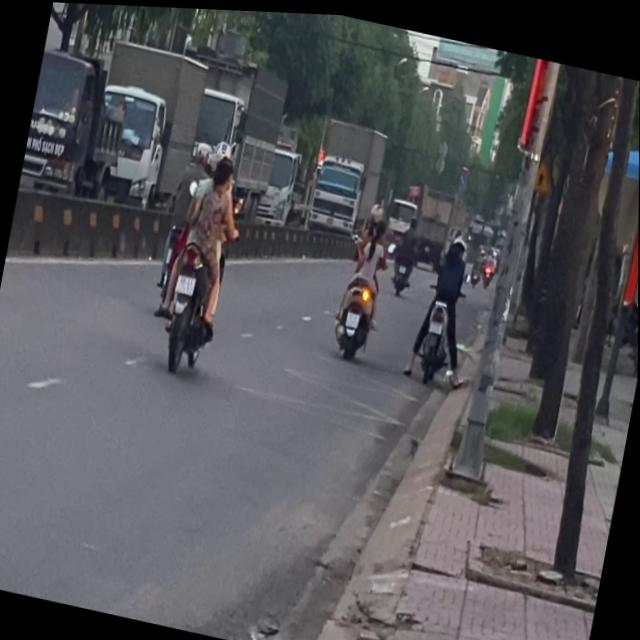helmet: (211, 134, 232, 160)
licenseplate: (141, 124, 253, 376)
motorcyclist: (208, 150, 235, 190)
nohelmet: (174, 269, 195, 291)
